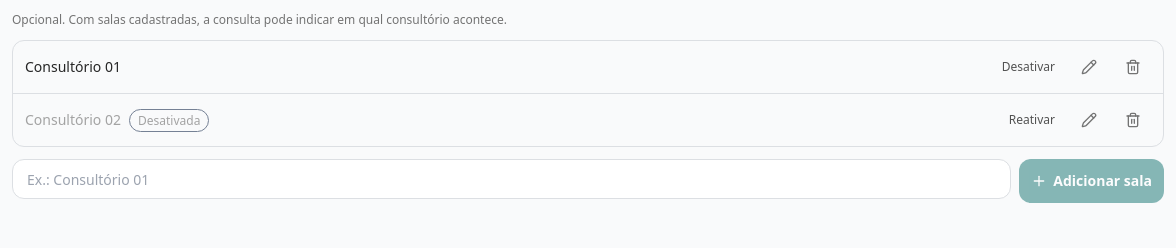
Test: ClinicRoomsSection › mostra o erro do backend (nome repetido)
Expected: the text "Consultório 01" is shown, [25,57,121,76]
Type "consultório 01" into the field named "Nome da nova sala".
click(512, 179); type("consultório 01")  # box [12,159,1011,199]
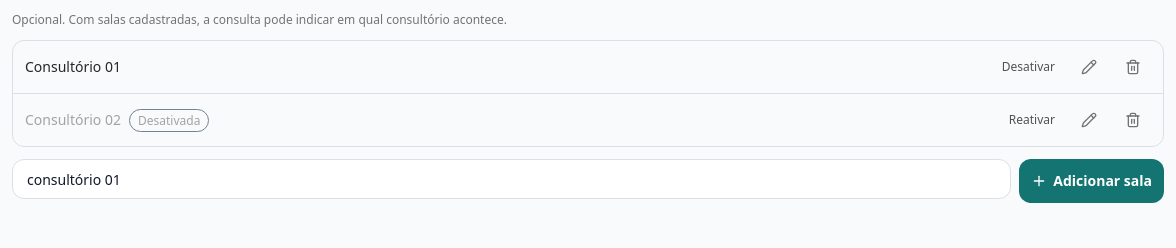
Click the button "Adicionar sala".
click(1092, 181)  # box [1019,159,1164,203]
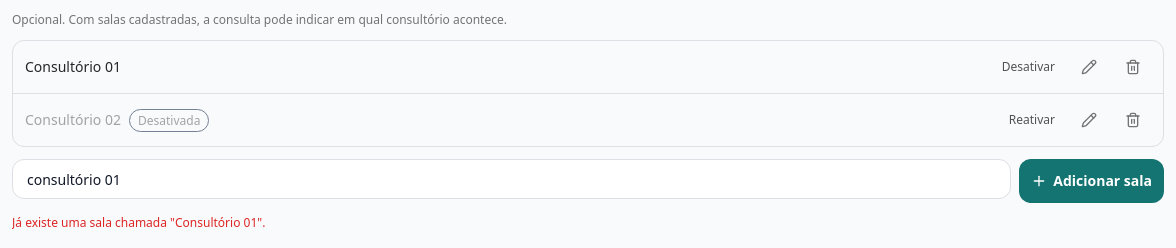
Expected: the message shows "Já existe", [12,214,265,231]
